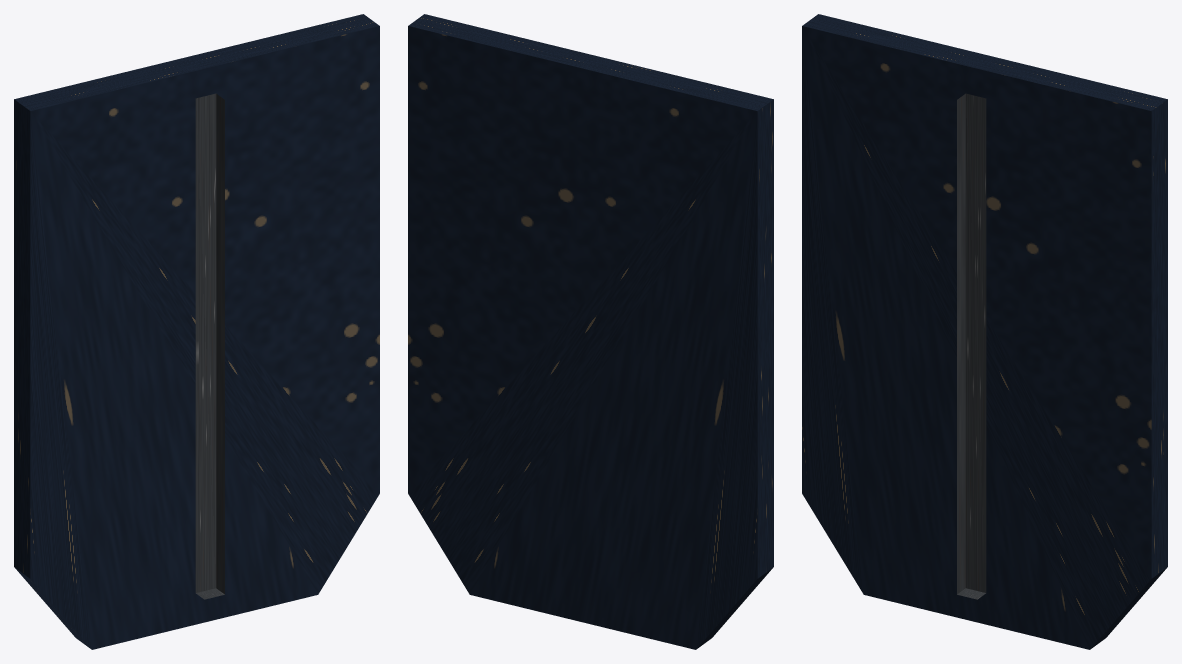
File: tower_shield.glb
3 views of the same model, side by side, from view 1: azimuth 30°, elevation 25°; view 2: azimuth 150°, elevation 25°; view 3: azimuth 330°, elevation 25° (orthographic).
Visible parts, largest first — view 1: tower_shield; view 2: tower_shield; view 3: tower_shield.
Part boxes in pixels (x1=…): tower_shield: x1=14, y1=14, x2=379, y2=649; tower_shield: x1=408, y1=14, x2=773, y2=649; tower_shield: x1=802, y1=14, x2=1167, y2=649.
Bounding box in the file's own units: 0.68 × 1.03 × 0.0875.
2 materials, 2 textured.
